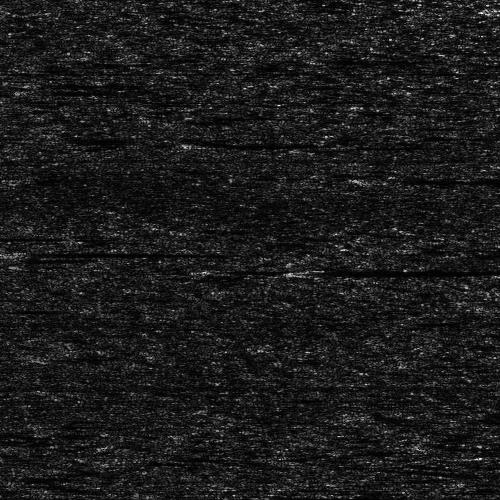rock: (189, 138, 242, 149), (22, 133, 85, 142), (342, 175, 415, 182), (0, 79, 68, 86), (282, 266, 323, 275), (0, 88, 41, 93), (0, 249, 31, 254), (174, 268, 215, 271), (487, 4, 500, 9), (0, 307, 14, 310)
shadow: (303, 266, 472, 275), (216, 138, 341, 149), (5, 249, 226, 254), (379, 175, 500, 182), (27, 79, 142, 86), (54, 133, 131, 142), (21, 88, 135, 93), (0, 231, 28, 240), (0, 307, 66, 310), (195, 268, 235, 271)
